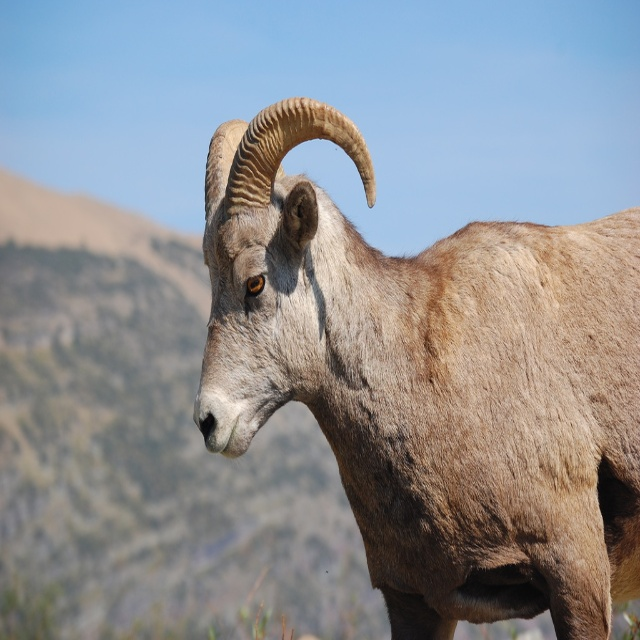Goat: (193, 96, 640, 640)
